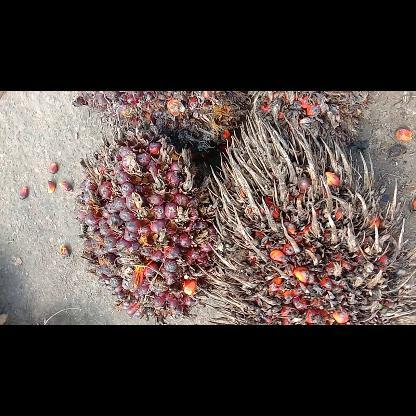TBS masak: (75, 122, 216, 324), (77, 91, 251, 153)
Terlalu masak: (198, 113, 414, 324), (251, 91, 367, 143)
